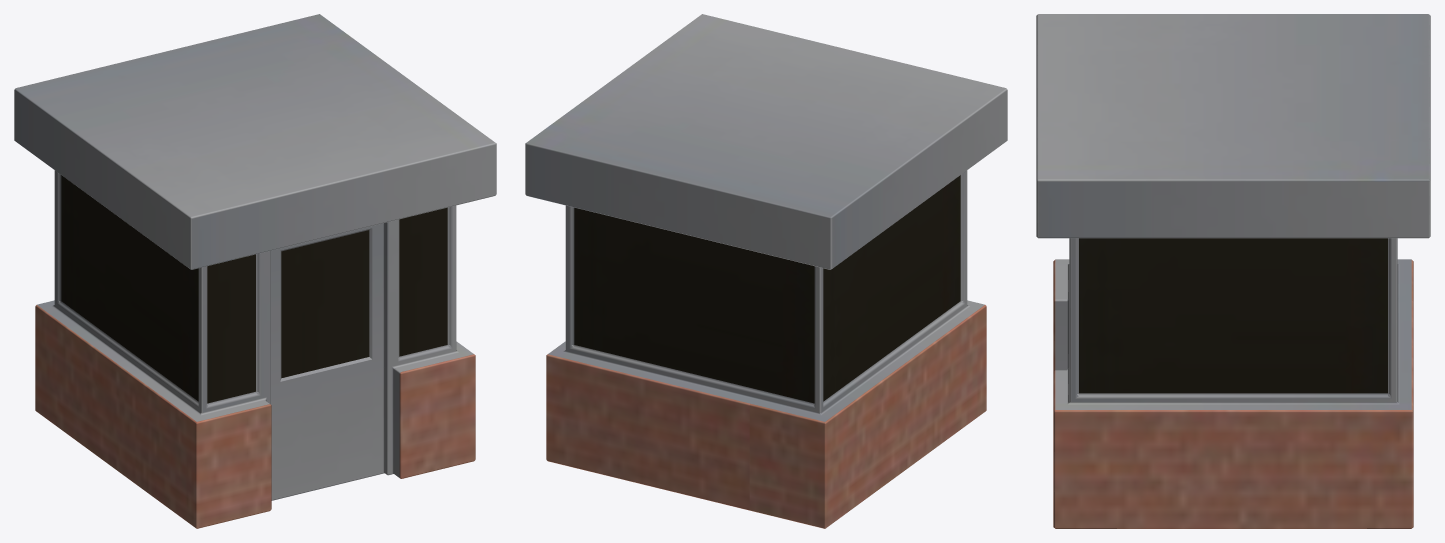
File: guerite.glb
3 views of the same model, side by side, from view 1: azimuth 30°, elevation 25°; view 2: azimuth 150°, elevation 25°; view 3: azimuth 270°, elevation 25° (orthographic). The views are drawn at different scales.
Parts seen in each view (by area): view 1: Security_Booth; view 2: Security_Booth; view 3: Security_Booth.
Part boxes in pixels (<box>): Security_Booth: <box>14,14,496,528</box>; Security_Booth: <box>525,14,1007,528</box>; Security_Booth: <box>1036,14,1430,528</box>.
Bounding box in the file's own units: 3 × 3 × 3.
Materials: 1 (1 with a texture image).
